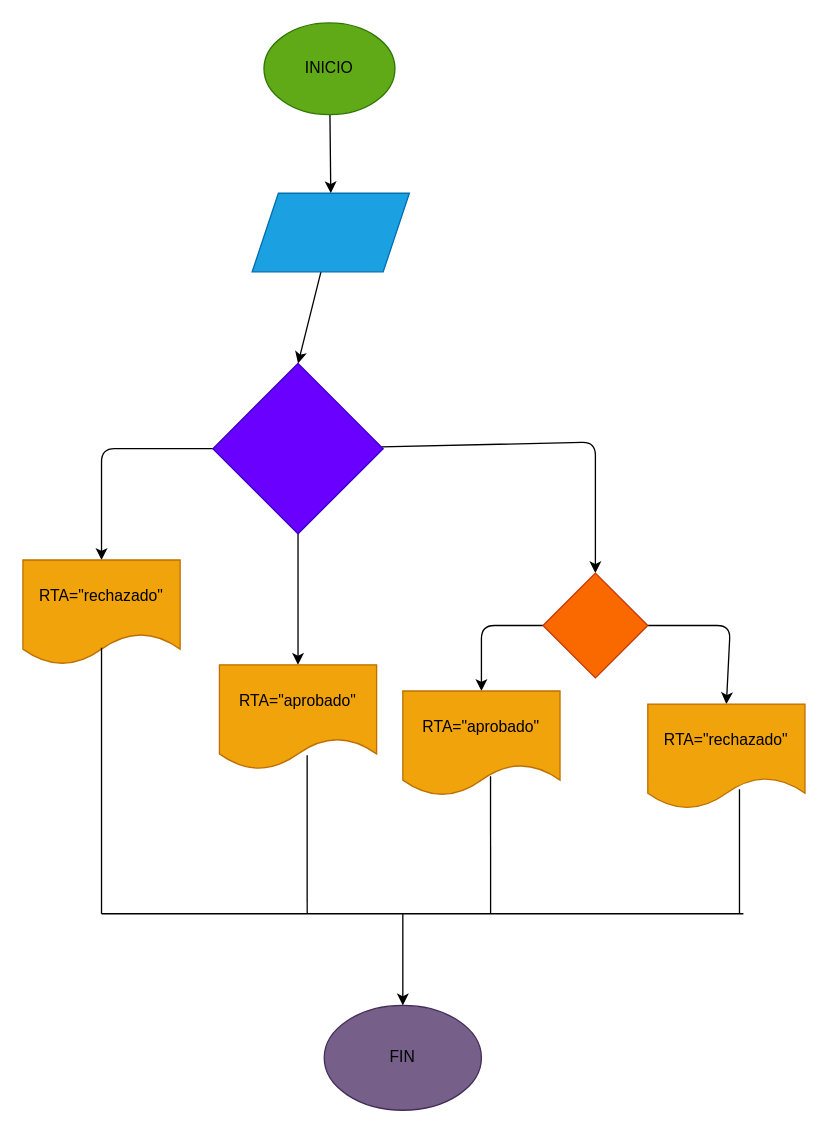
The diagram is 828 pixels wide and 1133 high, and some of its shapes have lost their labels. The centre of each missing label's shape, as x and y in pixels:
"INGRESOS" belongs at point (330, 232).
"INGRESOS>=945200" belongs at point (297, 448).
"TIENE DEUDAS" belongs at point (595, 625).
